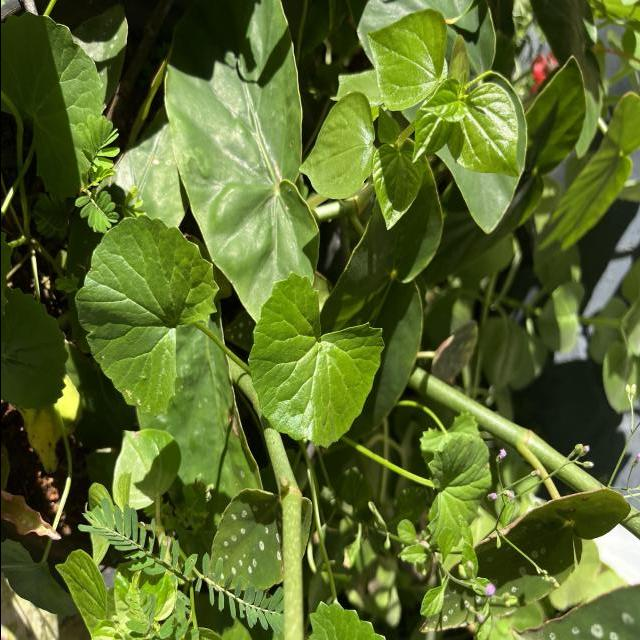Centella asiatica: (72, 208, 224, 420), (244, 267, 388, 452), (0, 6, 107, 208)
